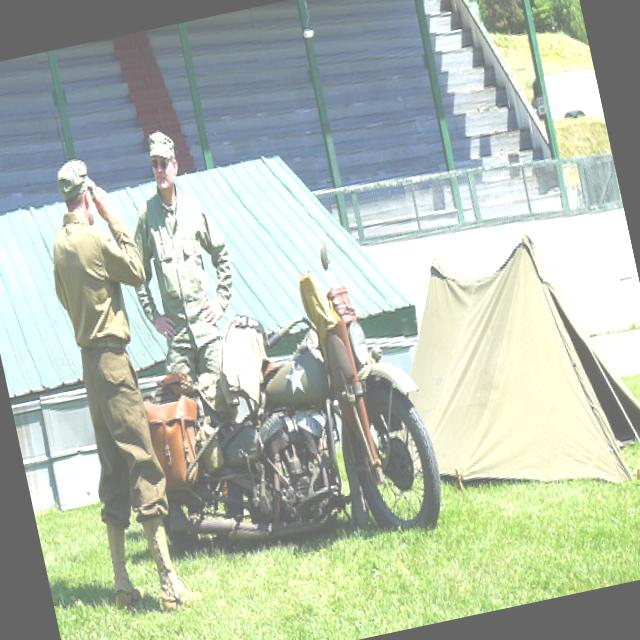Vehicle: (117, 227, 450, 581), (524, 64, 603, 128)
